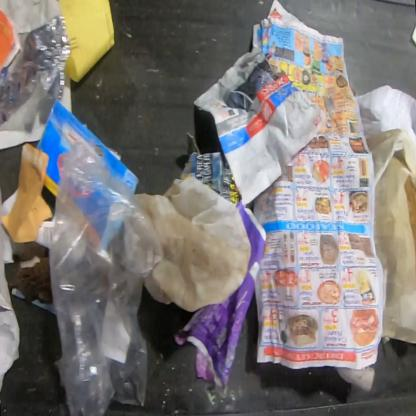cardboard: (404, 175, 415, 253)
soft_plastic: (48, 140, 162, 416), (133, 175, 252, 313), (0, 14, 71, 130)
